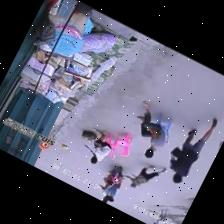person: (169, 118, 217, 182), (137, 100, 165, 157), (125, 165, 165, 187), (85, 130, 110, 163), (100, 173, 120, 201), (154, 208, 167, 223)
